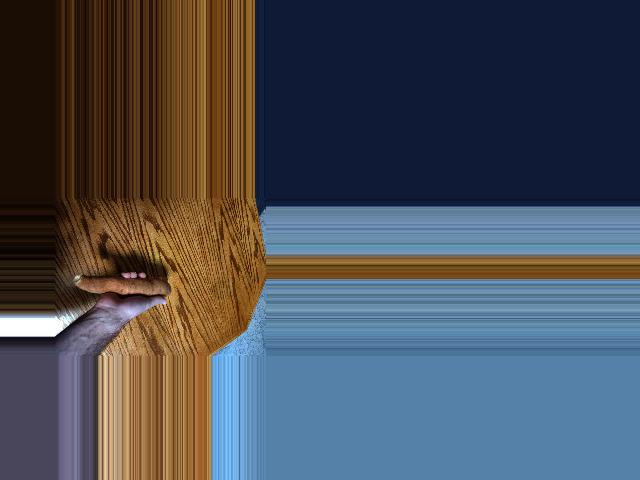sweet_potato: (72, 275, 167, 304)
